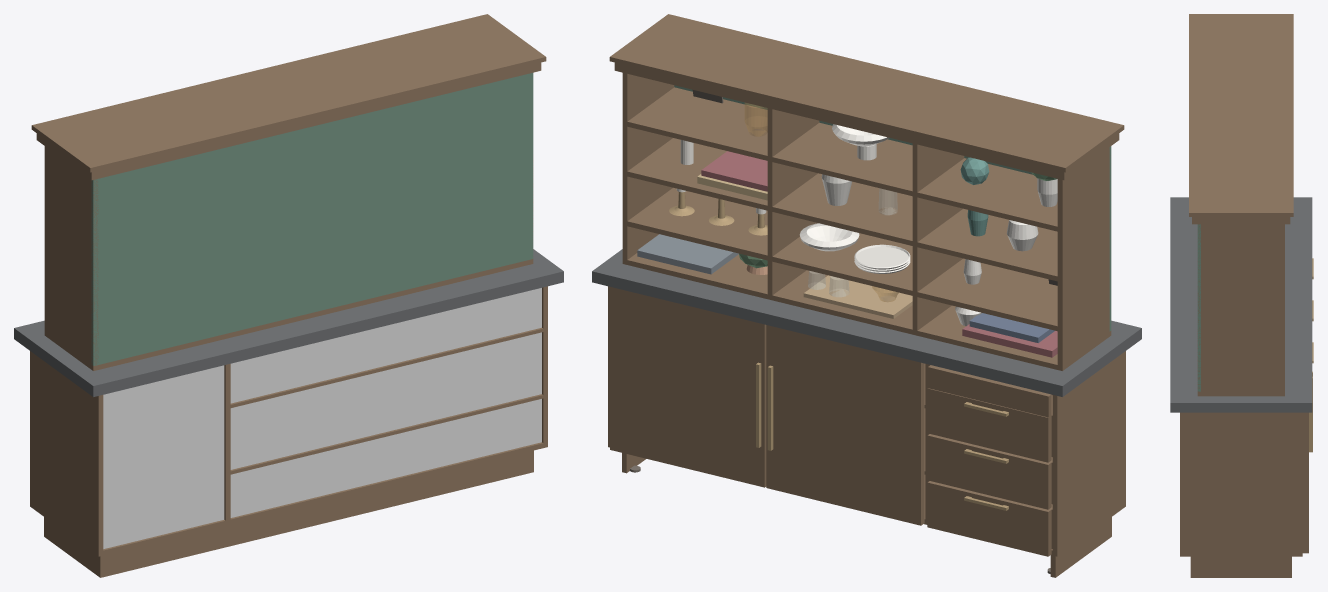
The model's file is hutch.glb.
3 views of the same model, side by side, from view 1: azimuth 30°, elevation 25°; view 2: azimuth 150°, elevation 25°; view 3: azimuth 270°, elevation 25° (orthographic). The views are drawn at different scales.
Visible parts, largest first — view 1: SM_Hutch_Back, SM_Back, SM_Hutch_CrownCap, SM_Top, SM_SideL, SM_Hutch_SideL, SM_PlinthRear, SM_Hutch_Crown, SM_CarcassBottom, SM_Hutch_BaseRail, SM_ShelfDoor_2, SM_ShelfDoor_1 (+3 smaller); view 2: SM_Hutch_CrownCap, SM_Door_L, SM_Door_R, SM_Top, SM_SideL, SM_Hutch_SideL, SM_Hutch_BaseRail, SM_Hutch_Shelf_3_3, SM_DrawerFront_1, SM_DrawerFront_2, SM_Hutch_Shelf_1_1, SM_DrawerFront_3 (+24 smaller); view 3: SM_Hutch_CrownCap, SM_SideR, SM_Hutch_SideR, SM_Top, SM_PlinthR, SM_Door_R, SM_Hutch_Crown, SM_Hutch_Back, SM_Hutch_BaseRail.
Part boxes in pixels (<box>): SM_Hutch_Back: <box>91,73,533,365</box>; SM_Back: <box>103,288,541,548</box>; SM_Hutch_CrownCap: <box>31,14,546,172</box>; SM_Top: <box>14,249,563,396</box>; SM_SideL: <box>30,351,103,556</box>; SM_Hutch_SideL: <box>44,146,98,365</box>; SM_PlinthRear: <box>97,451,533,577</box>; SM_Hutch_Crown: <box>36,62,541,180</box>; SM_CarcassBottom: <box>103,442,543,555</box>; SM_Hutch_BaseRail: <box>44,259,533,370</box>; SM_ShelfDoor_2: <box>230,327,543,407</box>; SM_ShelfDoor_1: <box>230,394,543,474</box>; SM_Hutch_CrownCap: <box>609,14,1124,172</box>; SM_Door_L: <box>766,325,924,525</box>; SM_Door_R: <box>610,287,766,487</box>; SM_Top: <box>592,249,1141,396</box>; SM_SideL: <box>1052,351,1125,556</box>; SM_Hutch_SideL: <box>1057,147,1109,365</box>; SM_Hutch_BaseRail: <box>622,253,1111,370</box>; SM_Hutch_Shelf_3_3: <box>627,87,767,160</box>; SM_DrawerFront_1: <box>927,481,1051,556</box>; SM_DrawerFront_2: <box>927,434,1051,509</box>; SM_Hutch_Shelf_1_1: <box>917,258,1057,331</box>; SM_DrawerFront_3: <box>927,388,1051,462</box>; SM_Hutch_CrownCap: <box>1189,14,1293,216</box>; SM_SideR: <box>1180,412,1302,556</box>; SM_Hutch_SideR: <box>1197,224,1284,391</box>; SM_Top: <box>1170,197,1312,412</box>; SM_PlinthR: <box>1190,556,1291,577</box>; SM_Door_R: <box>1302,412,1308,553</box>; SM_Hutch_Crown: <box>1192,217,1290,224</box>; SM_Hutch_Back: <box>1197,224,1200,391</box>; SM_Hutch_BaseRail: <box>1197,391,1284,396</box>.
Bounding box in the file's own units: 1.78 × 1.49 × 0.525.
